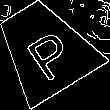P_NW: (13, 17, 76, 80)
